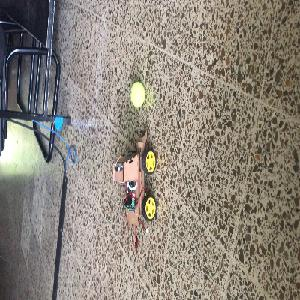Ball: (130, 82, 145, 107)
Robot: (112, 130, 157, 226)
